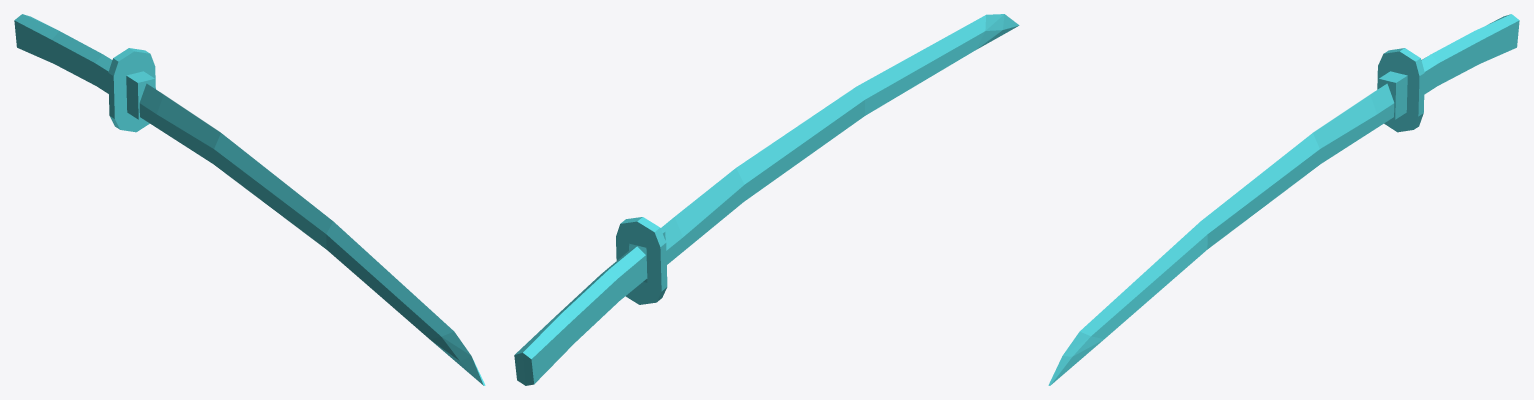
Rendered from Magic_Sword.glb.
3 renders of one model, left to right at view 1: azimuth 30°, elevation 25°; view 2: azimuth 150°, elevation 25°; view 3: azimuth 330°, elevation 25°, orthographic. The views are drawn at different scales.
Parts seen in each view (by area): view 1: Cube.001; view 2: Cube.001; view 3: Cube.001.
Part boxes in pixels (x1,y1,x2,y2): Cube.001: (14, 14, 485, 385); Cube.001: (514, 14, 1019, 385); Cube.001: (1048, 14, 1519, 385).
Bounding box in the file's own units: 0.5579 × 1.02 × 10.76.
